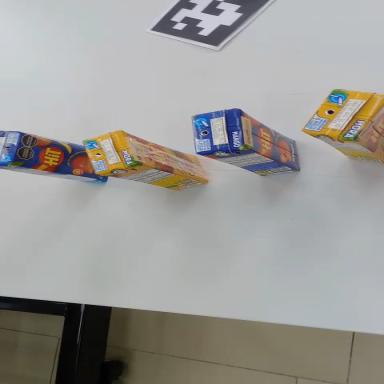HIT-MANGO: (182, 96, 312, 189), (0, 127, 113, 193)
HIT-MORA: (78, 124, 214, 197), (300, 86, 384, 164)
cara_F: (225, 110, 310, 176), (11, 132, 112, 187), (115, 131, 212, 185), (355, 103, 384, 161)
